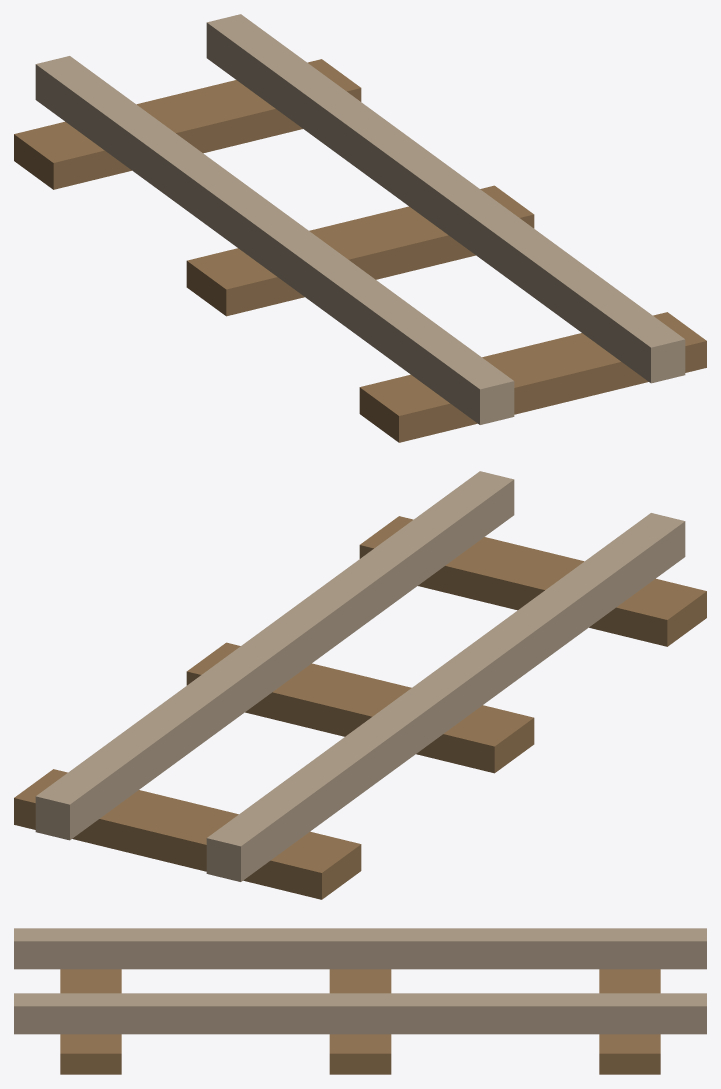
File: rail-segment.glb
The picture shows the model from 3 angles, top to bottom: view 1: azimuth 30°, elevation 25°; view 2: azimuth 150°, elevation 25°; view 3: azimuth 270°, elevation 25°; orthographic projection. The views are drawn at different scales.
Visible parts, largest first — view 1: cave-rail-segment; view 2: cave-rail-segment; view 3: cave-rail-segment.
Part boxes in pixels (left/top/right/bottom): cave-rail-segment: left=14, top=14, right=706, bottom=442; cave-rail-segment: left=14, top=471, right=706, bottom=899; cave-rail-segment: left=14, top=928, right=706, bottom=1074.
Size of the model in its own units: 0.36 by 0.07 by 0.9.
